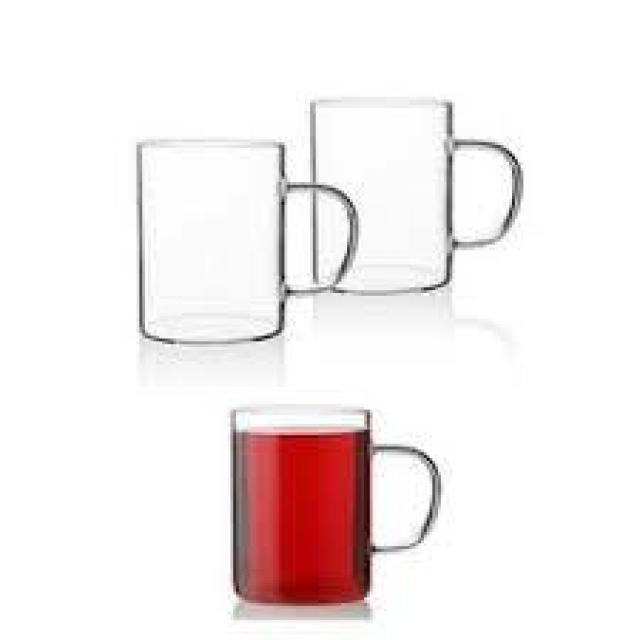non-organic waste: (127, 130, 366, 352), (224, 401, 446, 612)
